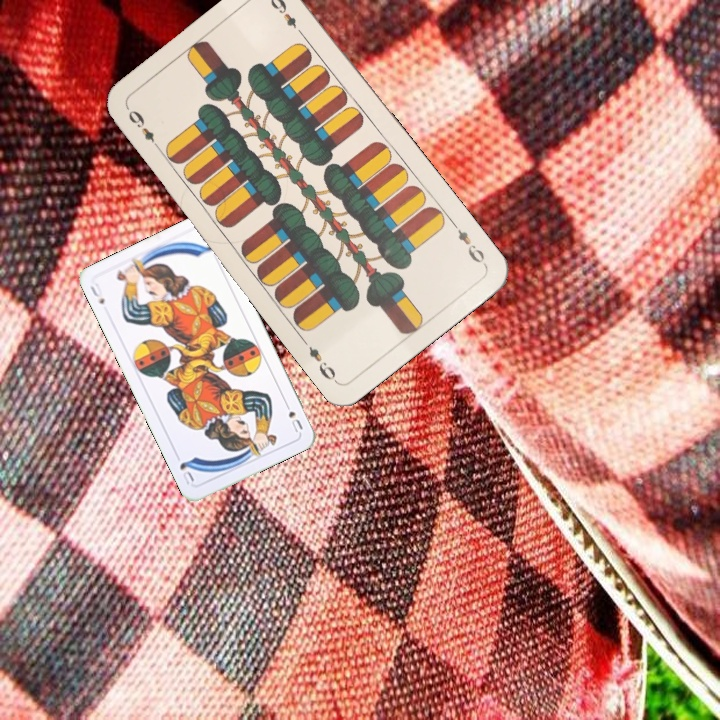E9: (123, 104, 165, 154), (448, 218, 489, 269)
SU: (280, 397, 305, 435), (86, 279, 107, 307)
